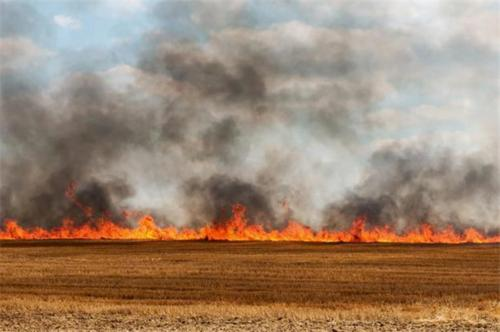fire: (5, 215, 500, 257)
smoke: (5, 42, 499, 207)
